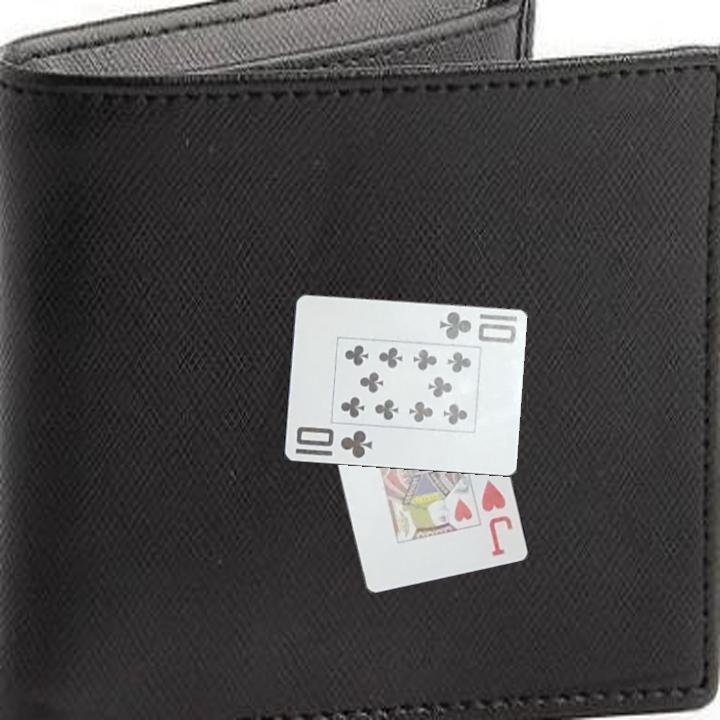Jh: (478, 476, 516, 559)
Tc: (435, 305, 520, 350), (292, 423, 375, 461)
